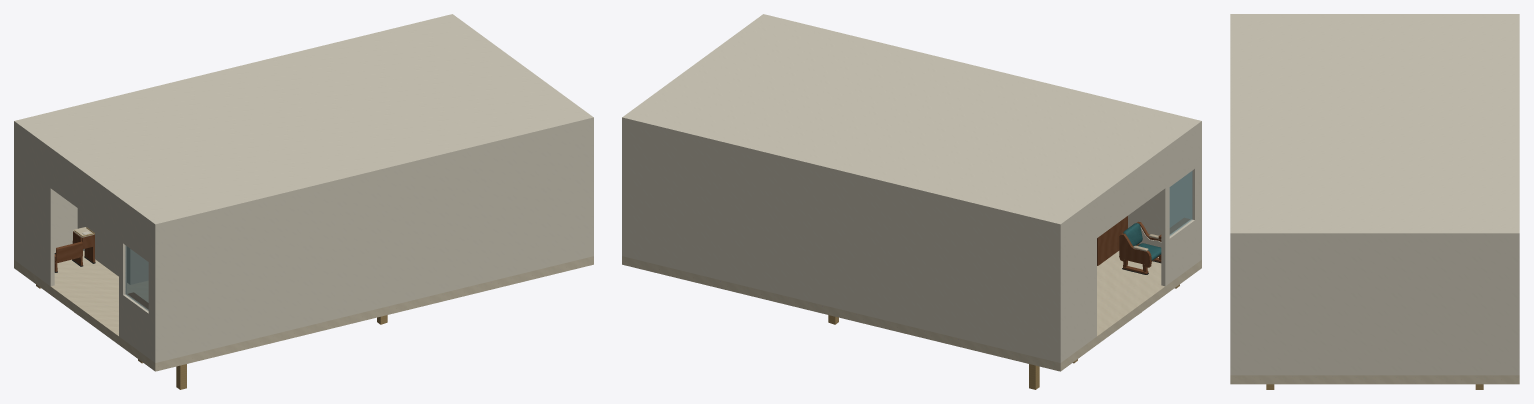
The model's file is NightGardenD15Specialty_530_r001.glb.
3 renders of one model, left to right at view 1: azimuth 30°, elevation 25°; view 2: azimuth 150°, elevation 25°; view 3: azimuth 270°, elevation 25°, orthographic. The views are drawn at different scales.
Visible parts, largest first — view 1: NG530_Ceiling, NG530_NorthSide, NG530_RoomFloor, NG530_EntryShoulderSouth, NG530_EntryHeader, NG530_StreetWindowLower, NG530_WashEntrySide, NG530_SouthSide, NG530_StreetWindowUpper, NG530_ScreenedStreetGlass; view 2: NG530_Ceiling, NG530_SouthSide, NG530_RoomFloor, NG530_EntryShoulderSouth, NG530_EntryHeader, NG530_NorthSide, NG530_StreetWindowLower, NG530_StreetWindowUpper, NG530_ScreenedStreetGlass, NG530_EntryPrivacyDogleg, NG530_DayReadingChair__DAY_CHAIR_R_swept_walnut_cheek; view 3: NG530_Ceiling, NG530_OpaqueRearBoundary, NG530_RoomFloor, NG530_NorthSide, NG530_SouthSide.
Boxes of the visible parts, bbox=[...] form: NG530_Ceiling: bbox=[14, 14, 593, 229]; NG530_NorthSide: bbox=[153, 123, 593, 362]; NG530_RoomFloor: bbox=[14, 250, 593, 371]; NG530_EntryShoulderSouth: bbox=[16, 128, 54, 286]; NG530_EntryHeader: bbox=[49, 152, 119, 238]; NG530_StreetWindowLower: bbox=[119, 292, 152, 360]; NG530_WashEntrySide: bbox=[77, 208, 133, 284]; NG530_SouthSide: bbox=[14, 127, 77, 260]; NG530_StreetWindowUpper: bbox=[119, 204, 152, 264]; NG530_ScreenedStreetGlass: bbox=[125, 245, 148, 310]; NG530_Ceiling: bbox=[622, 14, 1201, 229]; NG530_SouthSide: bbox=[622, 123, 1062, 362]; NG530_RoomFloor: bbox=[622, 251, 1201, 371]; NG530_EntryShoulderSouth: bbox=[1063, 203, 1096, 360]; NG530_EntryHeader: bbox=[1096, 152, 1166, 237]; NG530_NorthSide: bbox=[1128, 127, 1201, 260]; NG530_StreetWindowLower: bbox=[1161, 217, 1199, 286]; NG530_StreetWindowUpper: bbox=[1163, 128, 1199, 190]; NG530_ScreenedStreetGlass: bbox=[1169, 171, 1192, 235]; NG530_EntryPrivacyDogleg: bbox=[1097, 216, 1127, 265]; NG530_DayReadingChair__DAY_CHAIR_R_swept_walnut_cheek: bbox=[1119, 233, 1151, 267]; NG530_Ceiling: bbox=[1230, 14, 1519, 238]; NG530_OpaqueRearBoundary: bbox=[1235, 239, 1514, 375]; NG530_RoomFloor: bbox=[1230, 375, 1519, 384]; NG530_NorthSide: bbox=[1230, 239, 1234, 375]; NG530_SouthSide: bbox=[1515, 239, 1519, 375].
Size of the model in its own units: 12.9 by 5.31 by 7.2.
Materials: 79 (49 with a texture image).
